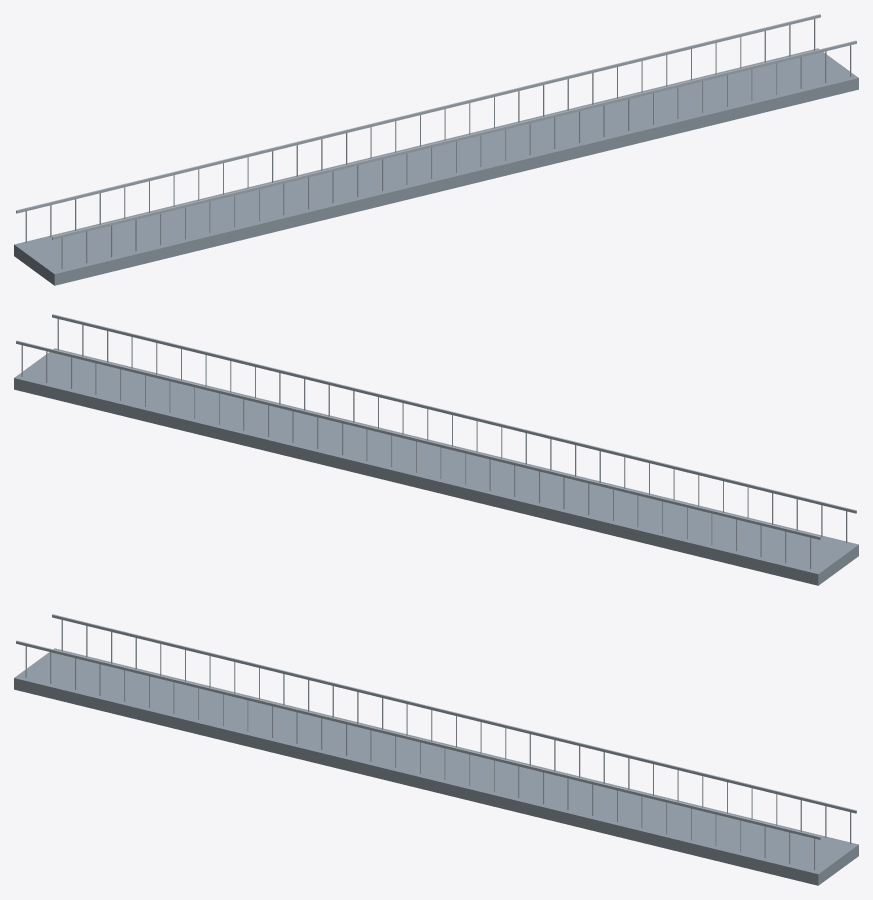
Rendered from library-bridge.glb.
3 views of the same model, one above another, from view 1: azimuth 30°, elevation 25°; view 2: azimuth 150°, elevation 25°; view 3: azimuth 330°, elevation 25° (orthographic).
Visible parts, largest first — view 1: deck, rail_top_-1, rail_top_1; view 2: deck, rail_top_1, rail_top_-1; view 3: deck, rail_top_-1, rail_top_1.
Boxes of the visible parts, box(x1,y1,x2,y2) form: deck: box(14, 48, 858, 285); rail_top_-1: box(16, 14, 820, 213); rail_top_1: box(52, 40, 856, 239); deck: box(14, 348, 858, 585); rail_top_1: box(52, 314, 856, 513); rail_top_-1: box(16, 340, 820, 539); deck: box(14, 648, 858, 885); rail_top_-1: box(52, 614, 856, 813); rail_top_1: box(16, 640, 820, 839).
Bounding box in the file's own units: 16 × 0.895 × 1.4.
